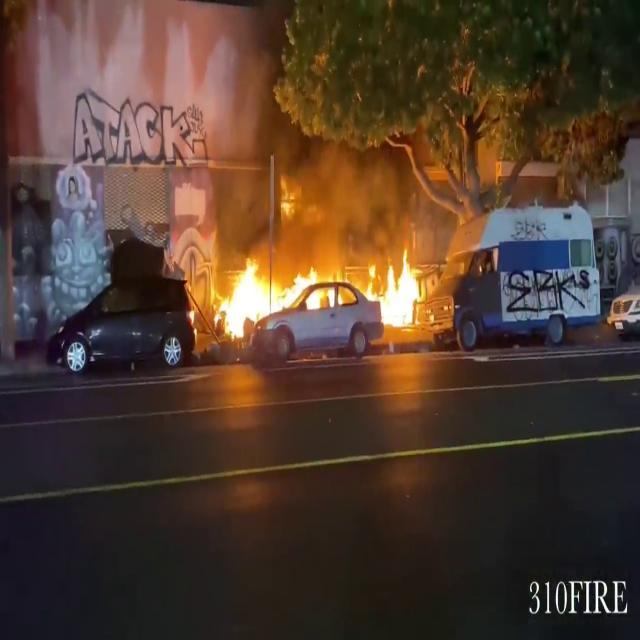Fire: (202, 252, 370, 344), (373, 245, 432, 333)
Smoke: (288, 127, 401, 260)
